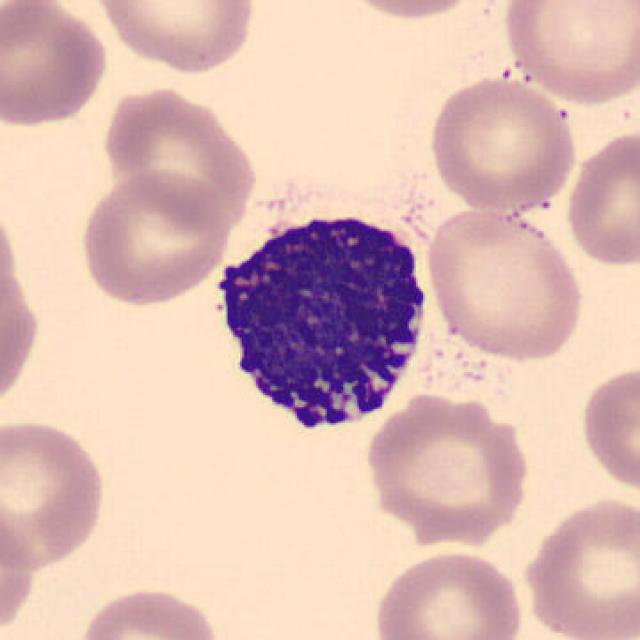Basophil: (201, 192, 437, 450)
RBC: (361, 388, 533, 546), (421, 204, 587, 365), (98, 81, 261, 231), (76, 165, 233, 308), (423, 73, 580, 214), (518, 492, 638, 640), (0, 416, 110, 575), (500, 0, 638, 108), (370, 546, 528, 640), (0, 2, 112, 130), (87, 0, 263, 76), (562, 125, 638, 270), (73, 582, 224, 640), (576, 362, 640, 496), (0, 256, 44, 403), (0, 492, 41, 640), (332, 0, 490, 23)
